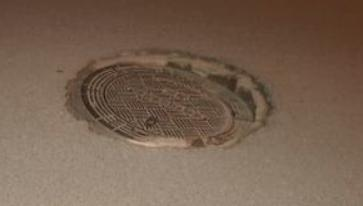wellcover: (70, 56, 281, 158)
